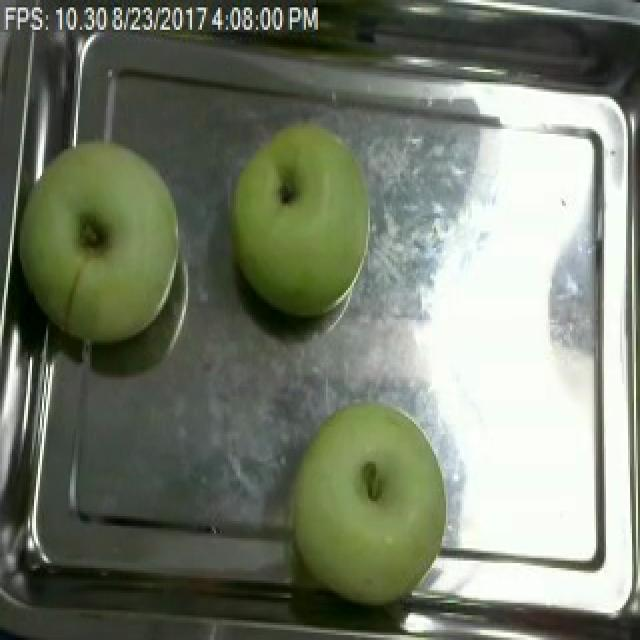50-_ripeness: (270, 391, 462, 638), (219, 106, 391, 332), (14, 141, 190, 347)
